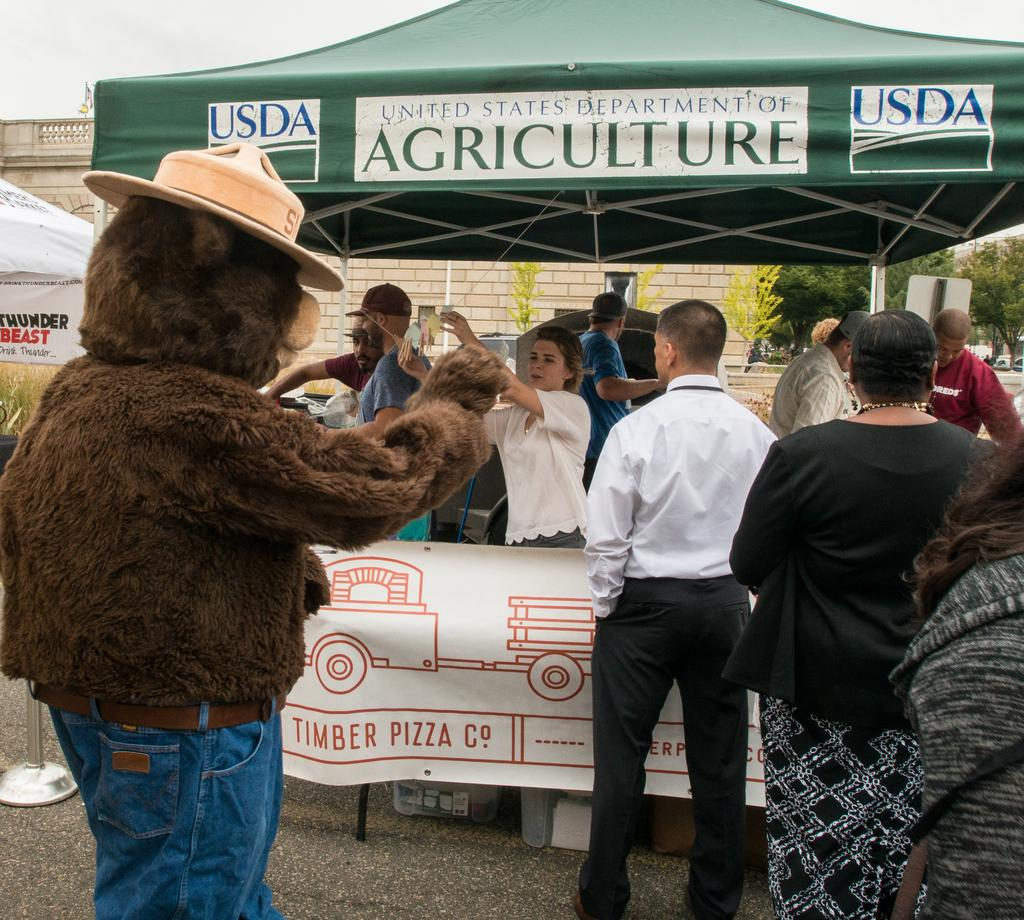Hat: (82, 135, 346, 291), (344, 283, 412, 318)
